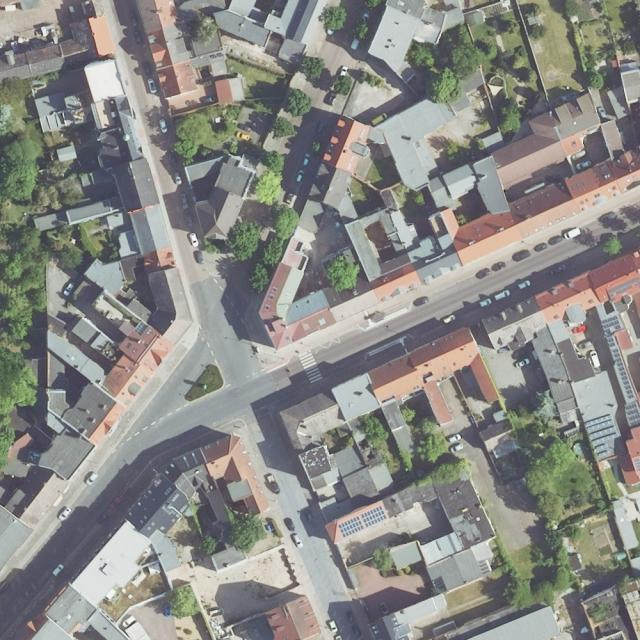PV: (601, 315, 634, 398), (339, 506, 387, 539), (586, 414, 621, 459), (607, 278, 639, 303), (627, 402, 640, 428), (634, 459, 640, 475)
